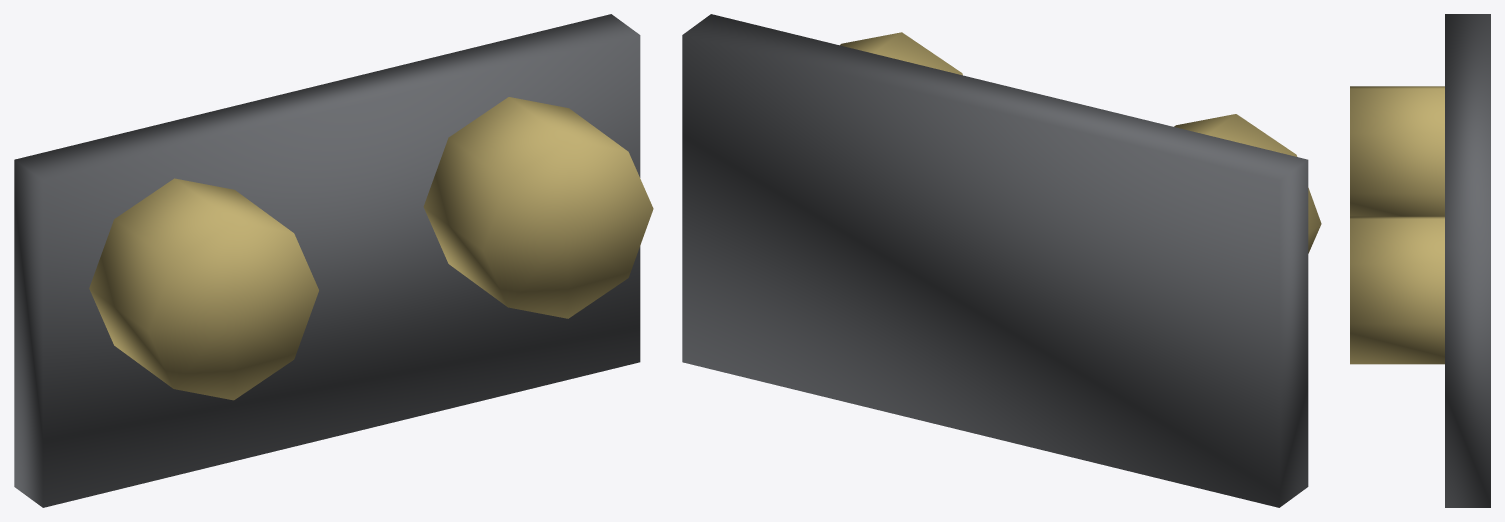
Rendered from emergency_light_pair_03.glb.
The picture shows the model from 3 angles, left to right: view 1: azimuth 30°, elevation 25°; view 2: azimuth 150°, elevation 25°; view 3: azimuth 270°, elevation 25°; orthographic projection. The views are drawn at different scales.
Visible parts, largest first — view 1: world; view 2: world; view 3: world.
Part boxes in pixels (bbox=[...]): world: bbox=[14, 14, 653, 507]; world: bbox=[682, 14, 1321, 507]; world: bbox=[1350, 14, 1490, 507].
Size of the model in its own units: 0.42 by 0.22 by 0.1075.
